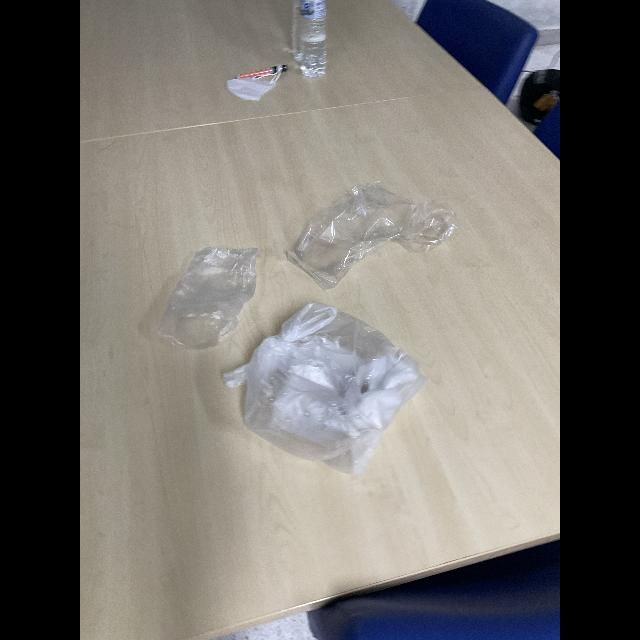plastic_bag: (226, 308, 426, 477), (271, 176, 455, 288), (157, 236, 257, 368)
plastic_bottle: (290, 1, 332, 88)
